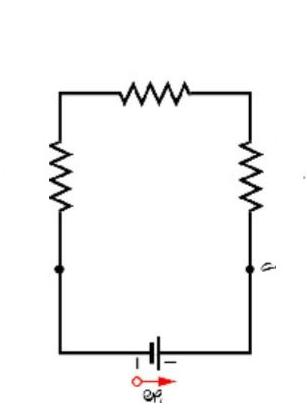resistor: (108, 66, 204, 123), (37, 125, 90, 225), (222, 123, 273, 223)
